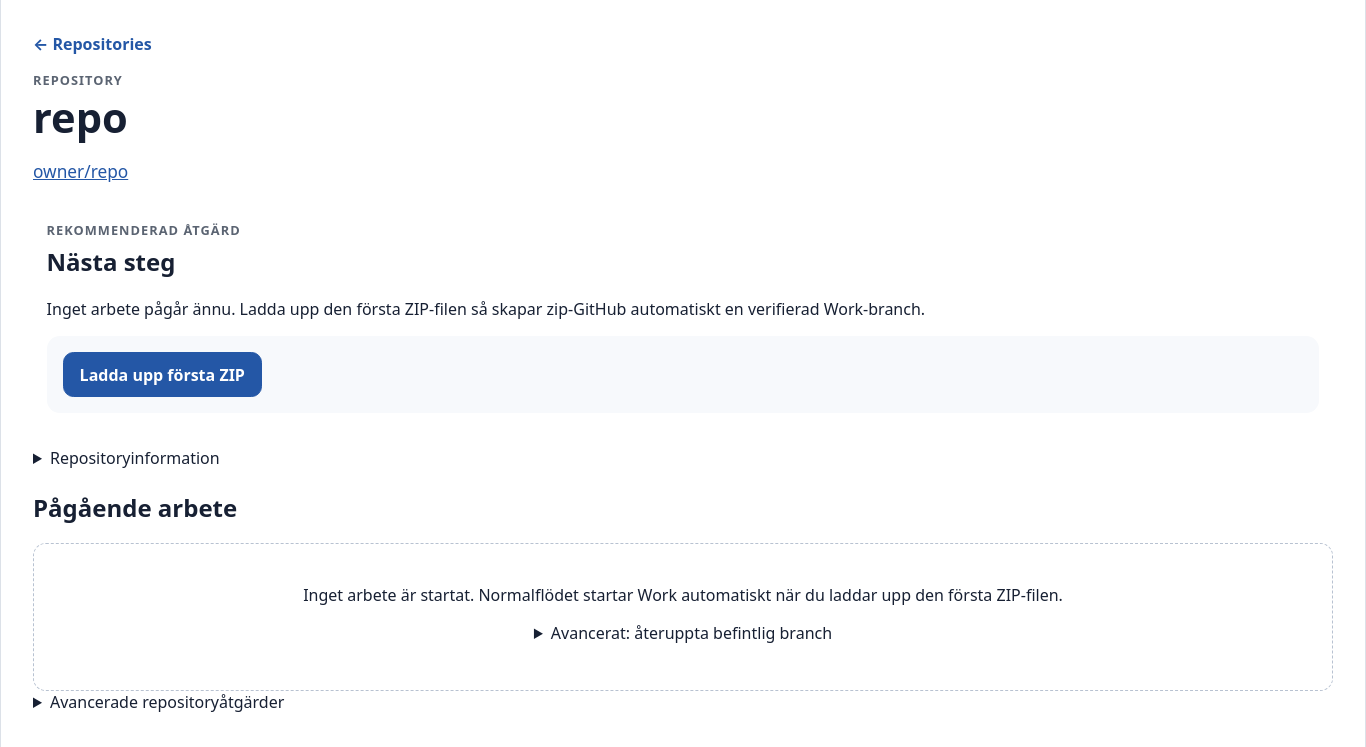
Test: ProjectDetailPage step 9.8 lifecycle › links the repository and keeps explicit resume of a non-default branch available
The width and height of the screenshot is (1366, 747).
Click the heading "Avancerat: återuppta befintlig branch".
click(691, 634)  # box 551,622 -> 832,644
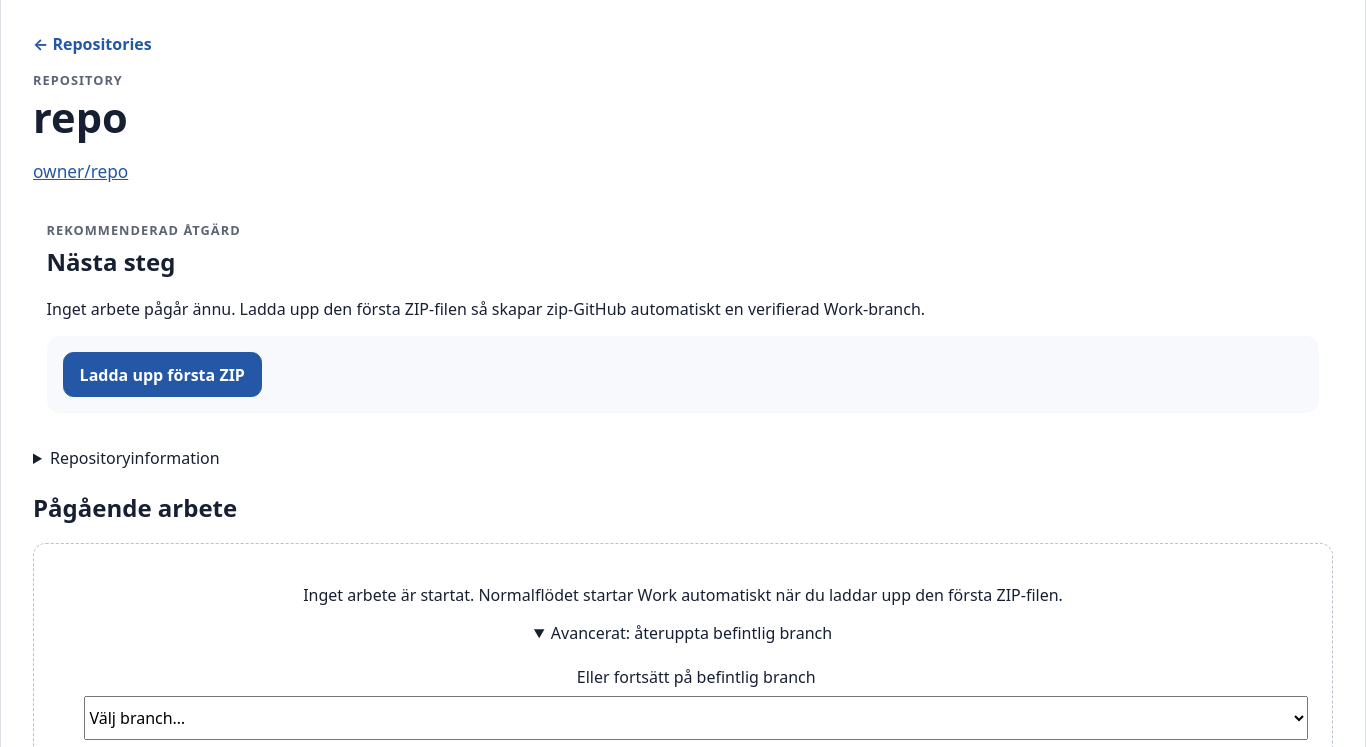
Select "old-work" in the dropdown labelled "Eller fortsätt på befintlig branch" at (696, 718), box 84,696 -> 1308,740
(page scrolled)
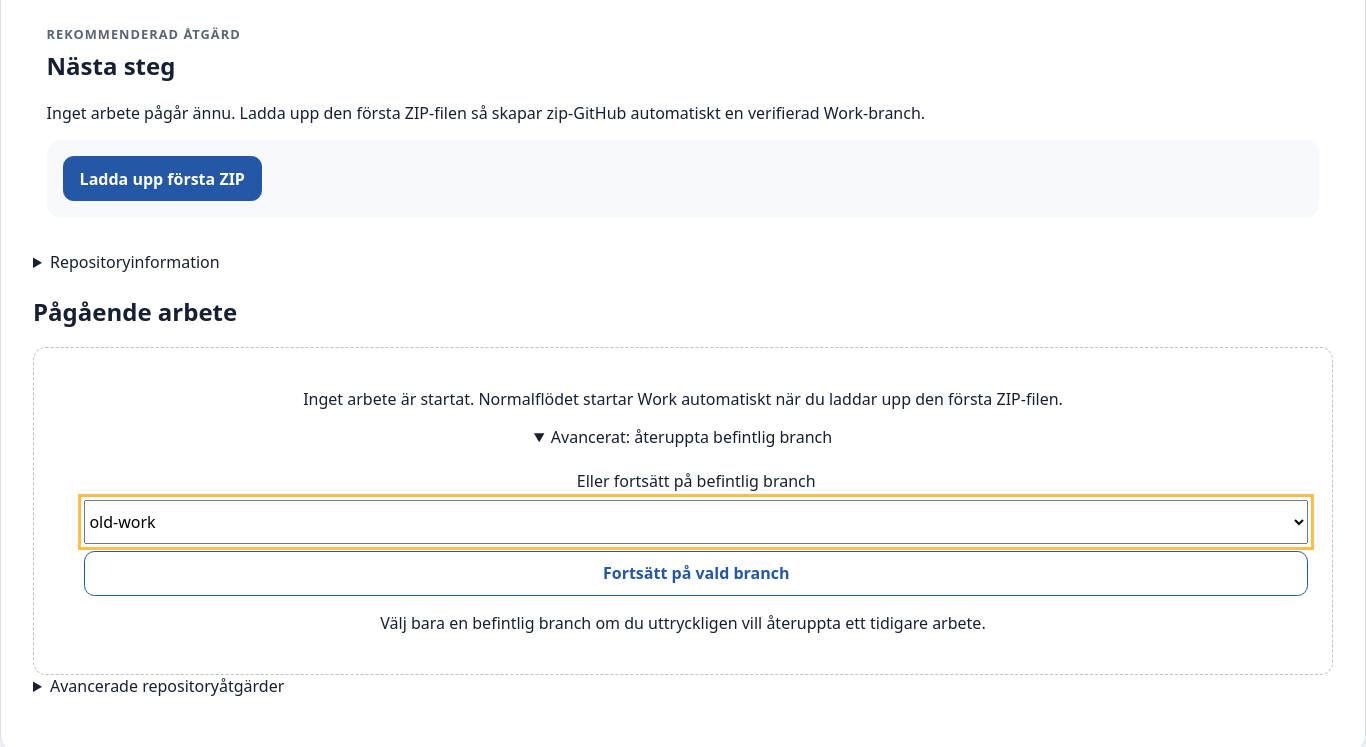
Click the button "Fortsätt på vald branch".
click(696, 573)  # box 84,551 -> 1308,596
(page scrolled)
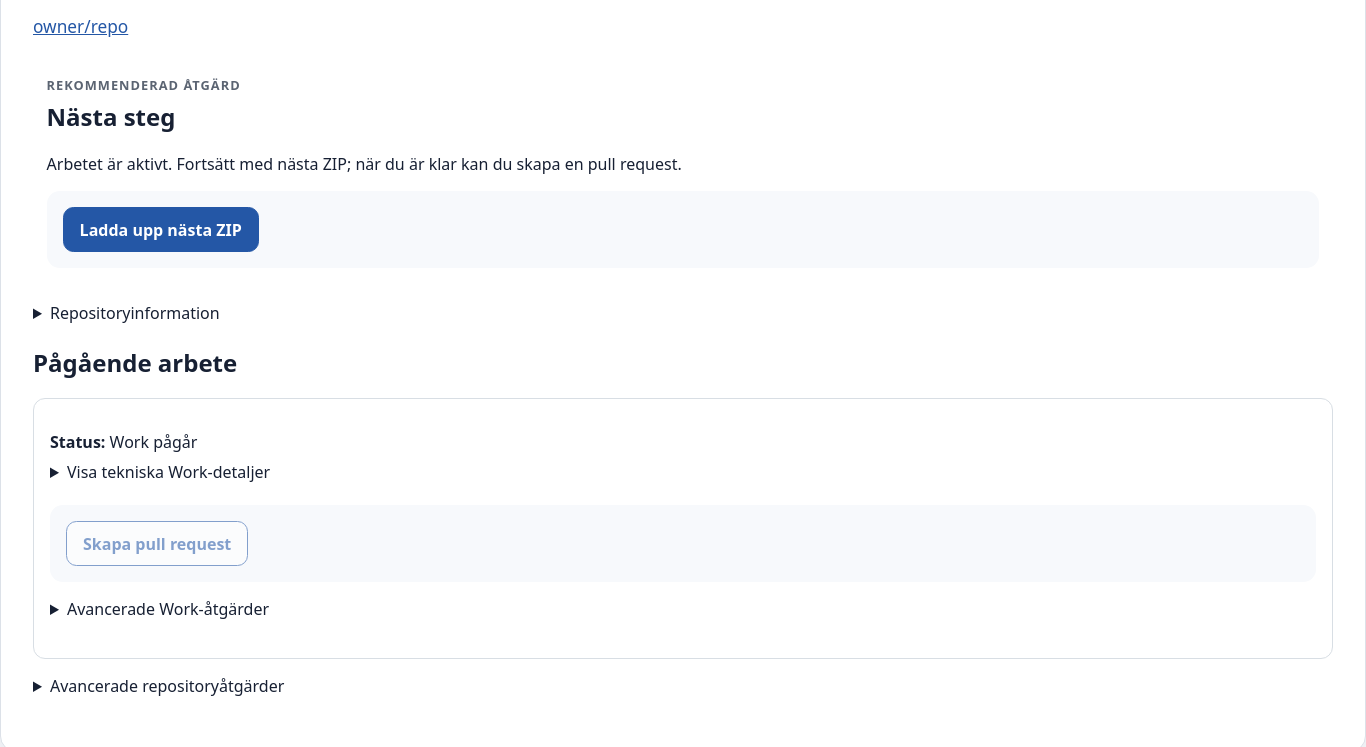
Expected: the text "Work pågår" is shown, 110,432 -> 197,454
Click the heading "Visa tekniska Work-detaljer".
click(169, 472)  # box 67,462 -> 270,484
(page scrolled)
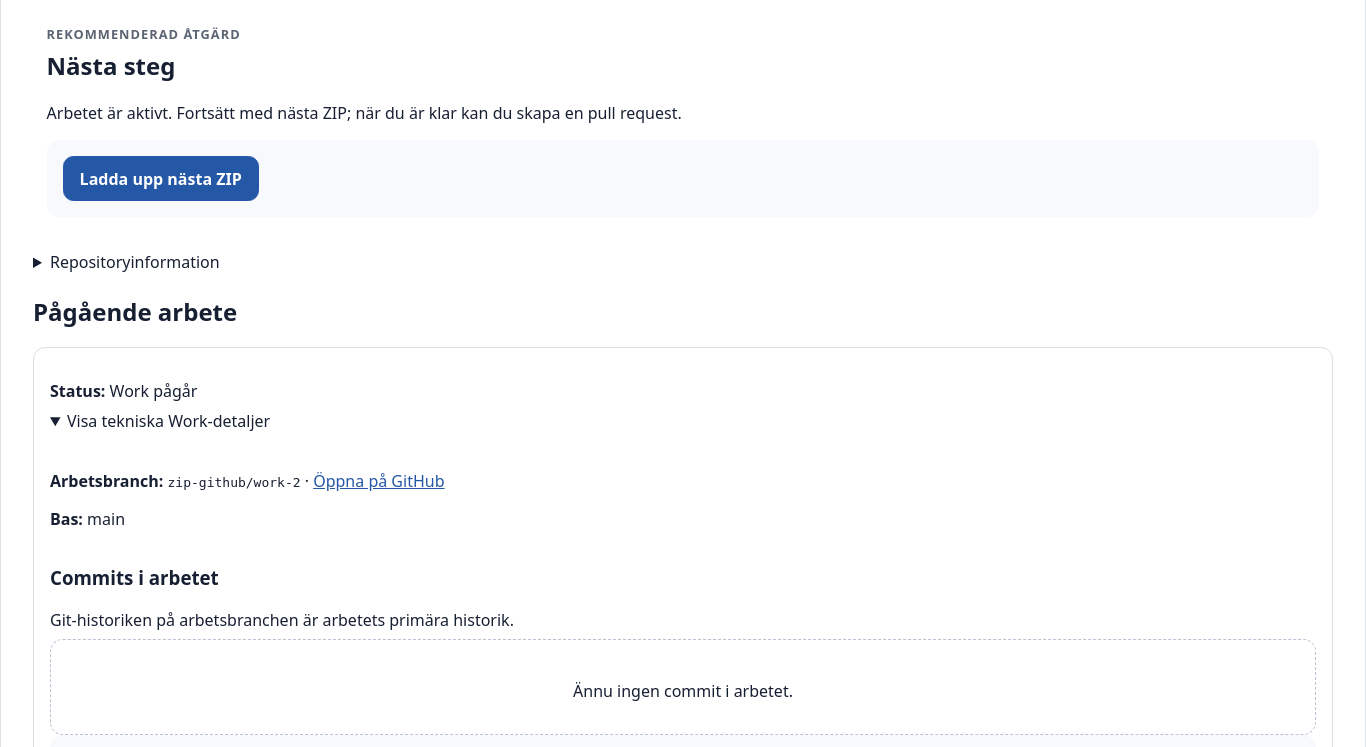
Expected: the text "zip-github/work-2" is shown, 168,476 -> 301,490
